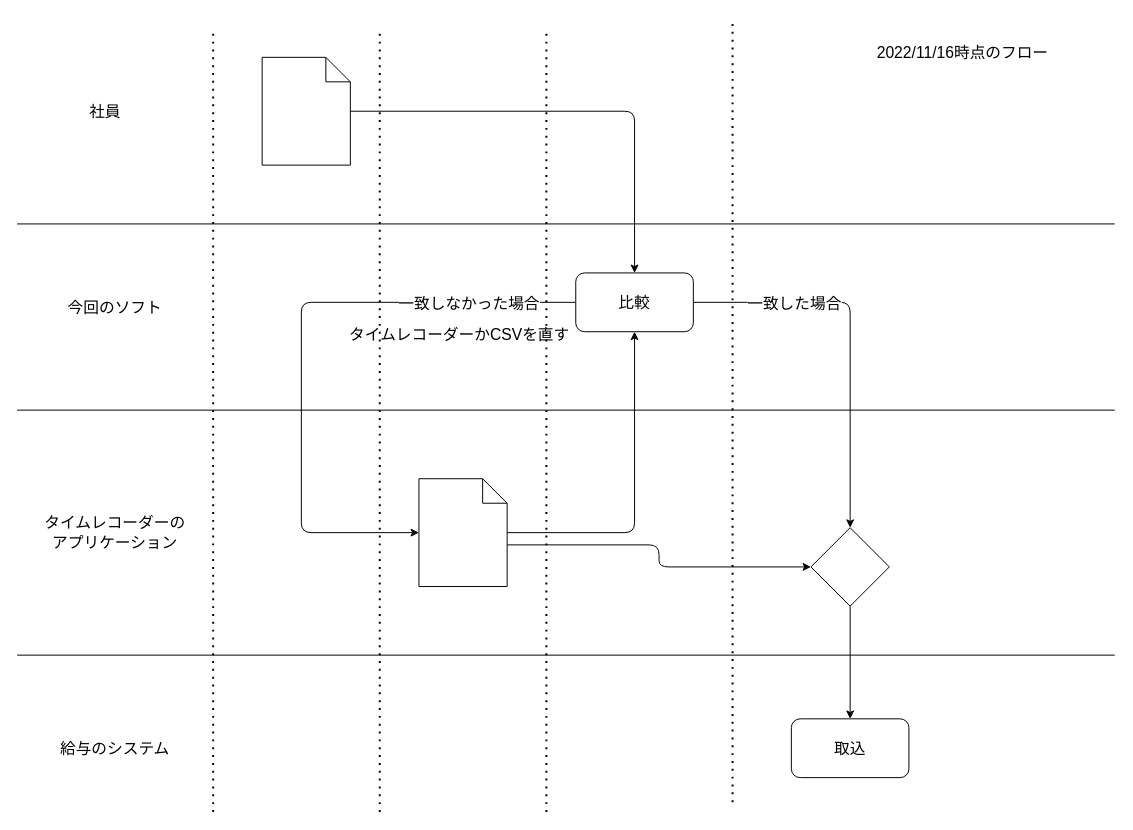
This 1133x830 diagram has some shape labels left out. The centre of each missing label's shape, as x and y in pixels:
"CSV作成" belongs at (462,532).
"勤怠エクセル作成" belongs at (305,110).
